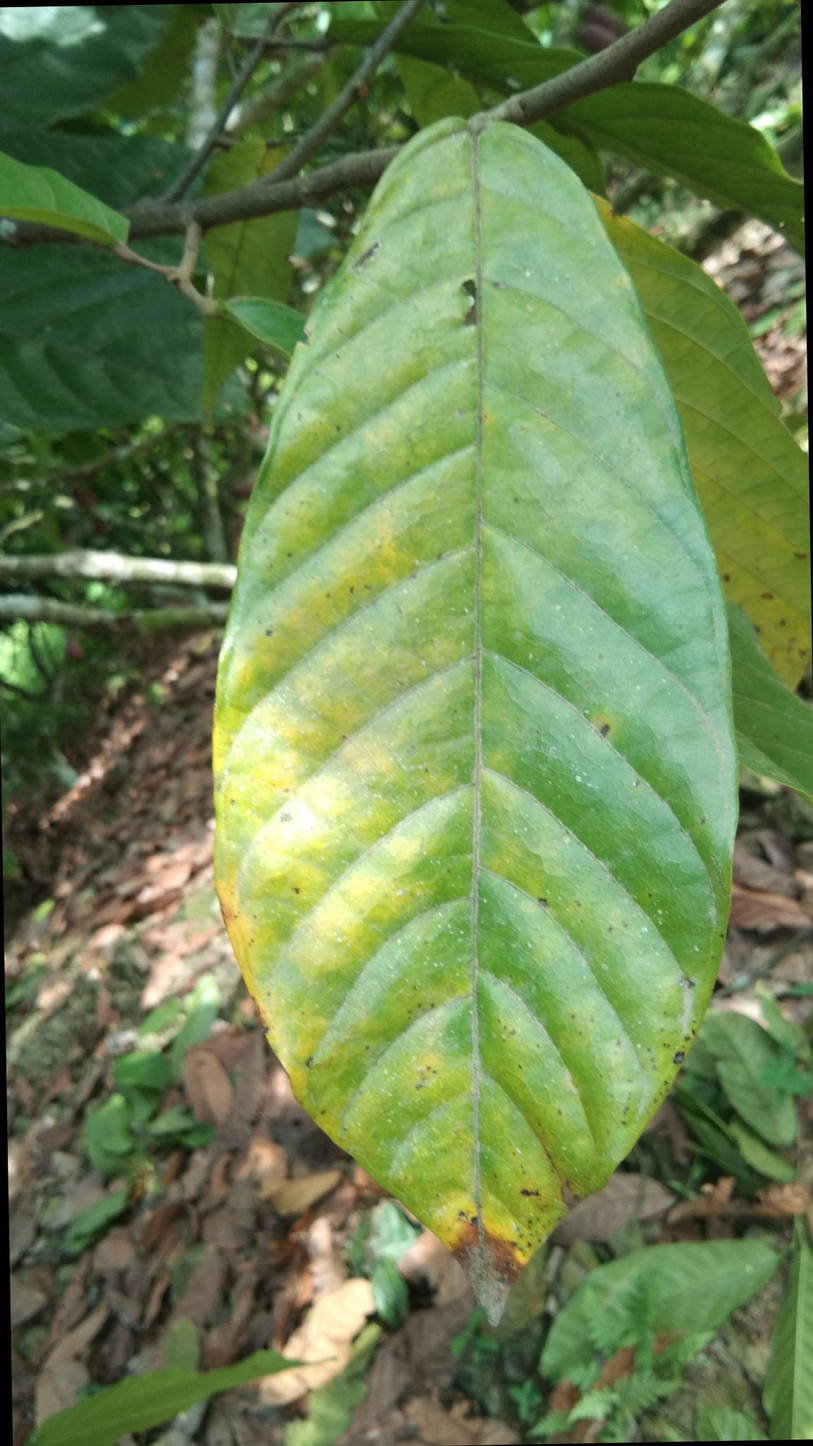Fosforo: (198, 103, 758, 1315)
